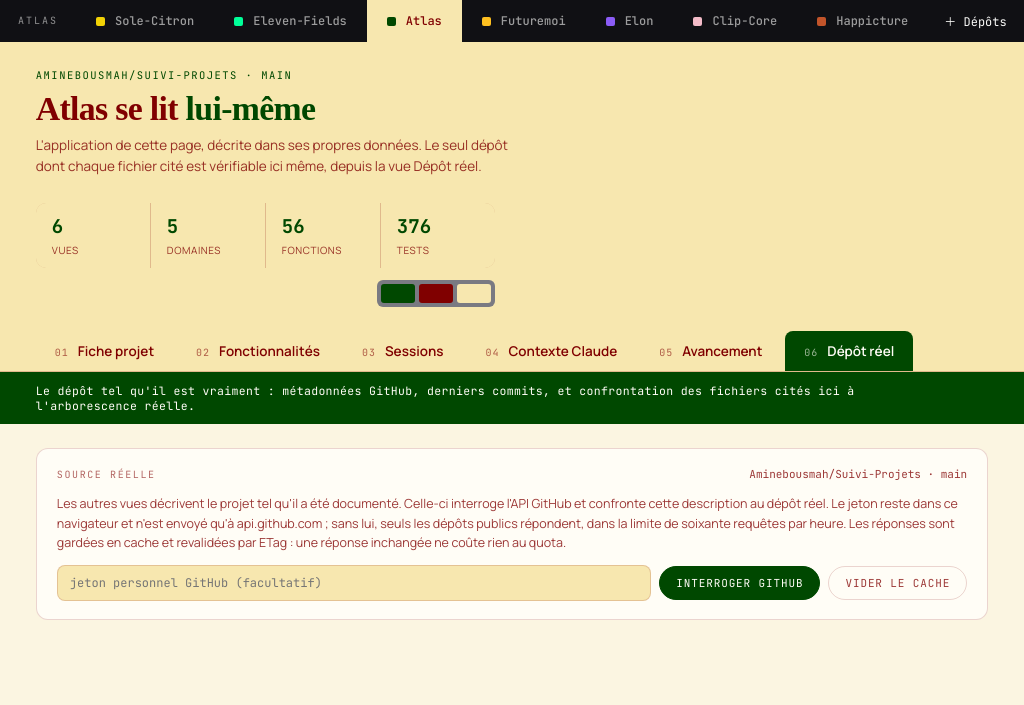
Scenario: ce que le dépôt change dans les autres vues › remplit l’arbre du dépôt, activité comprise
Click the button "Interroger GitHub".
click(740, 584)  # box top-left (659, 566), bottom-right (820, 600)
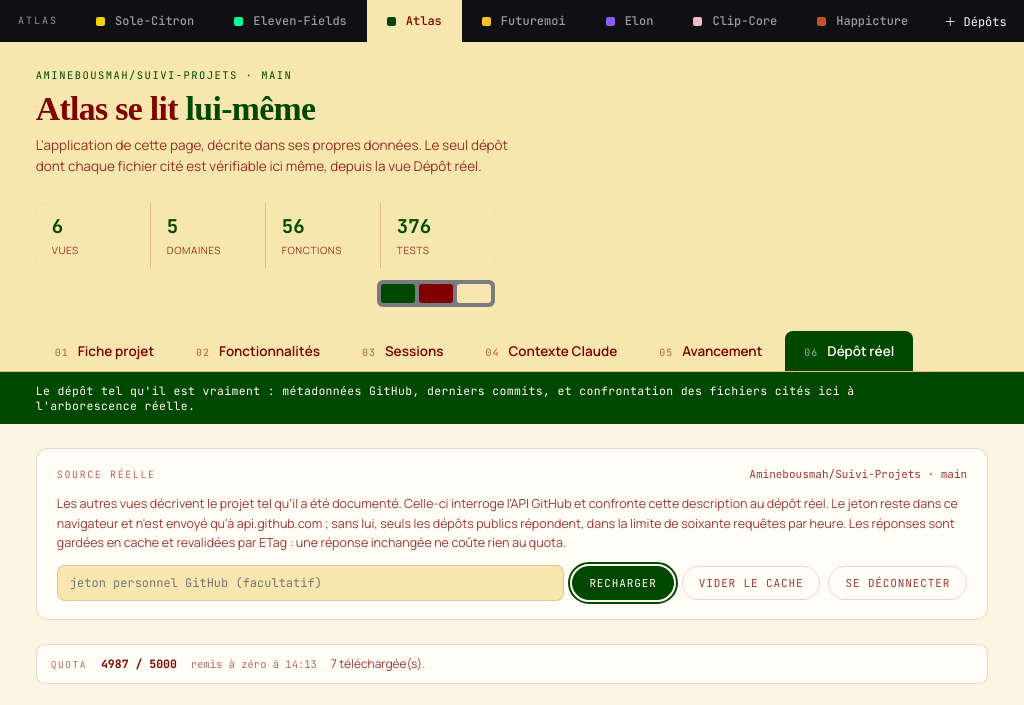
Click the button "02 Fonctionnalités".
click(258, 351)  # box top-left (177, 331), bottom-right (339, 371)
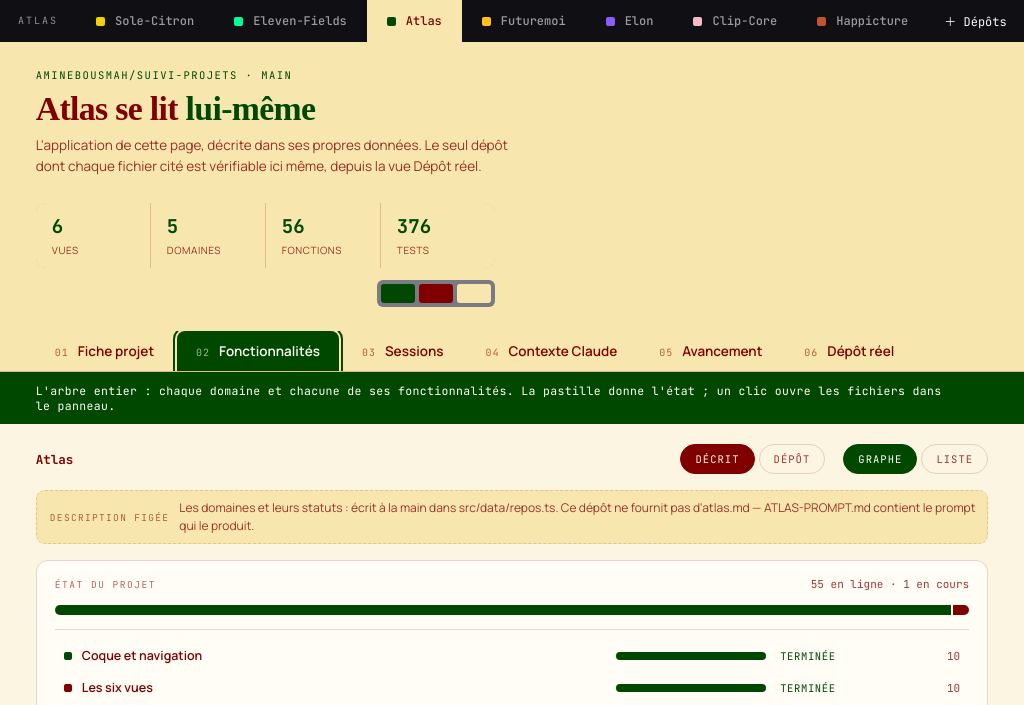
Click the button "Dépôt".
click(792, 459)  # box top-left (759, 444), bottom-right (825, 474)
(page scrolled)
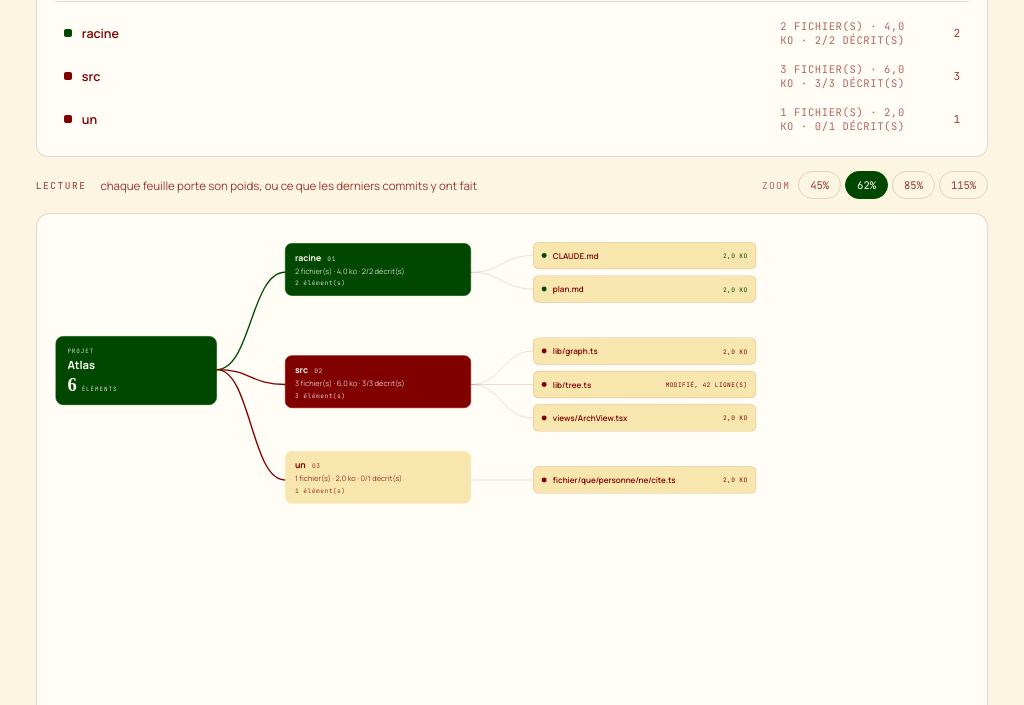
Expected: the text "modifié, 42 ligne(s)" is shown, top-left (666, 381), bottom-right (747, 389)
